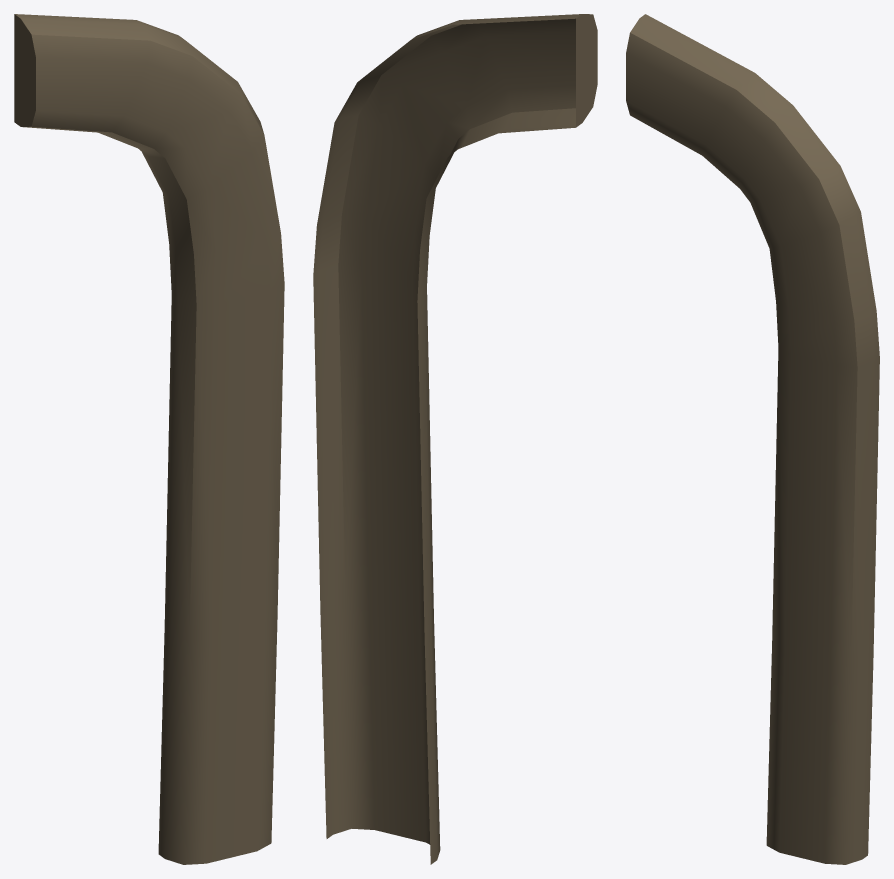
The model's file is SM_Beam04.fbx.
3 views of the same model, side by side, from view 1: azimuth 30°, elevation 25°; view 2: azimuth 150°, elevation 25°; view 3: azimuth 330°, elevation 25° (orthographic). The views are drawn at different scales.
Parts seen in each view (by area): view 1: pCube57; view 2: pCube57; view 3: pCube57.
Part boxes in pixels (<box>): pCube57: <box>14,14,284,864</box>; pCube57: <box>313,14,597,864</box>; pCube57: <box>626,14,879,864</box>.
Bounding box in the file's own units: 104 × 332 × 14.88.
